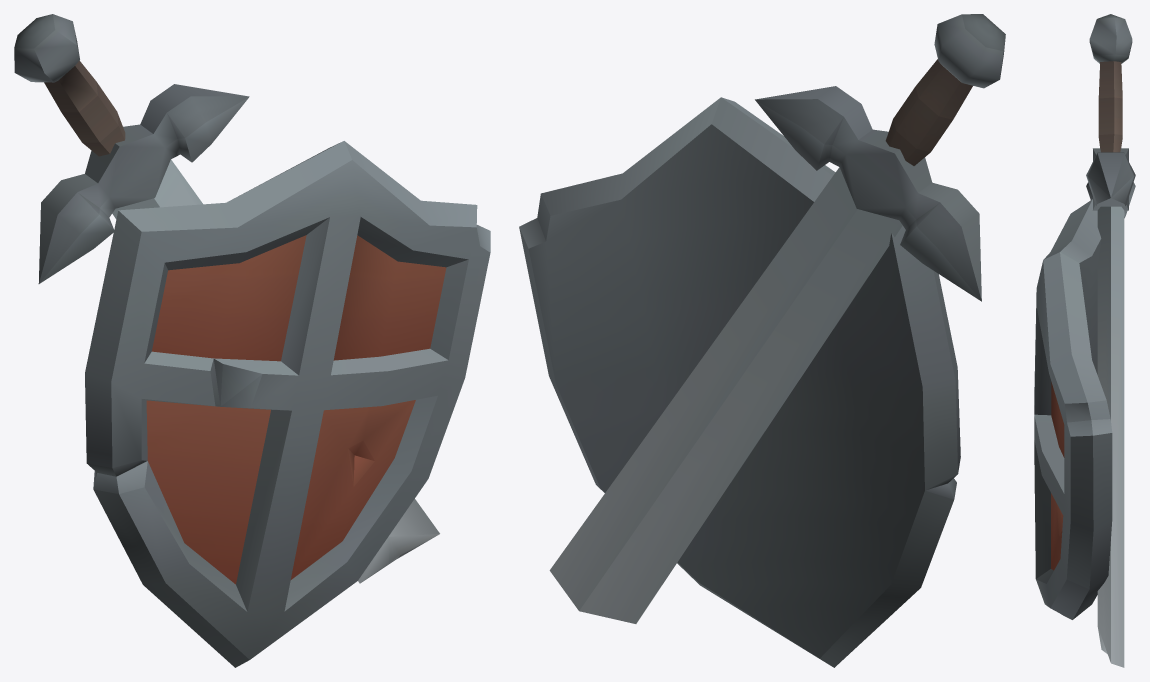
Rendered from d_kaykit_panoplie_brisee.glb.
3 renders of one model, left to right at view 1: azimuth 30°, elevation 25°; view 2: azimuth 150°, elevation 25°; view 3: azimuth 270°, elevation 25°, orthographic. The views are drawn at different scales.
Visible parts, largest first — view 1: d_kaykit_panoplie_brisee; view 2: d_kaykit_panoplie_brisee; view 3: d_kaykit_panoplie_brisee.
Boxes of the visible parts, <box> form: d_kaykit_panoplie_brisee: <box>14,14,490,667</box>; d_kaykit_panoplie_brisee: <box>519,14,1005,667</box>; d_kaykit_panoplie_brisee: <box>1034,14,1135,667</box>.
Size of the model in its own units: 1.43 by 1.96 by 0.3356.
1 material, 1 textured.
